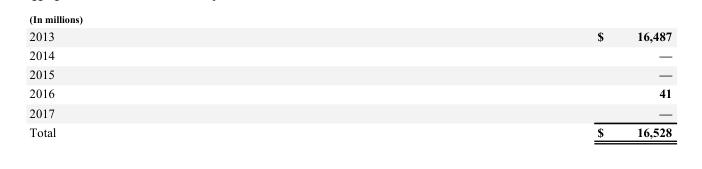table: (28, 28, 671, 138)
table column: (325, 28, 671, 138), (28, 28, 325, 138)
table row: (28, 45, 671, 64), (28, 64, 671, 83), (28, 83, 671, 102), (28, 102, 671, 121), (28, 28, 671, 45), (28, 121, 671, 138)
